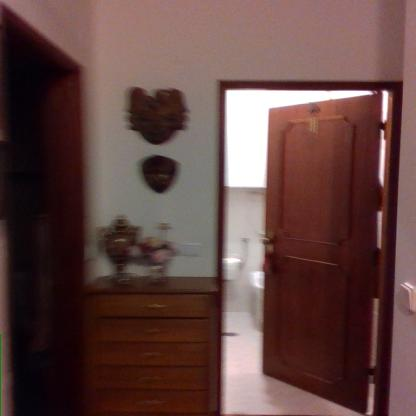semi: (203, 70, 410, 416)
